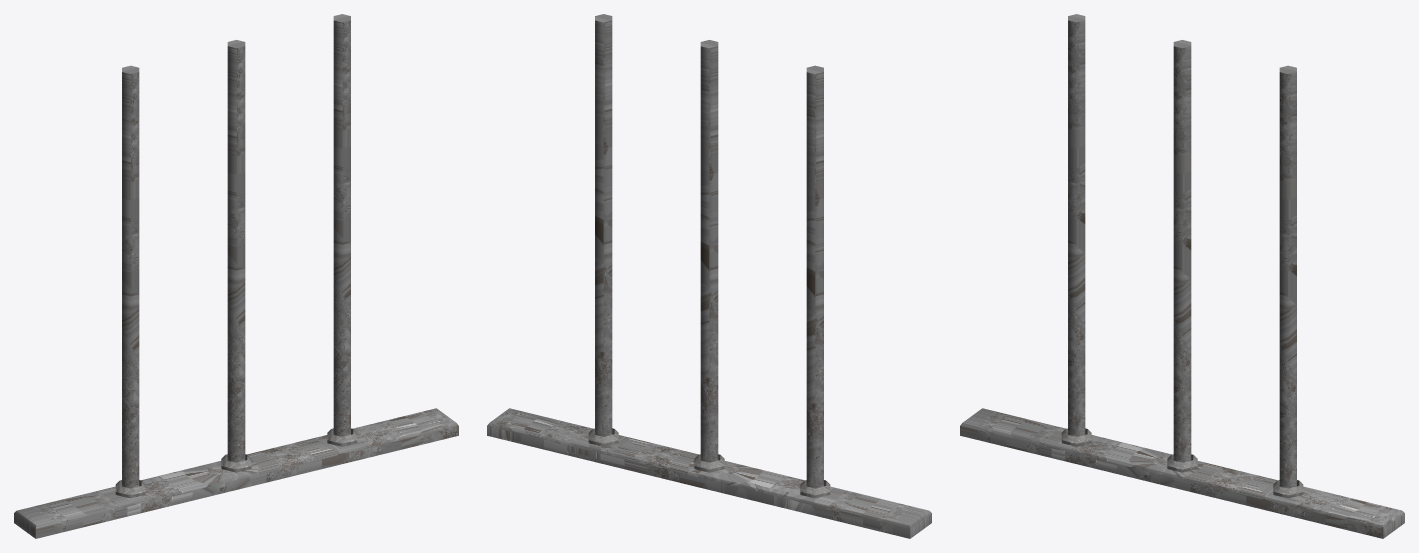
File: Barrotes.fbx
3 renders of one model, left to right at view 1: azimuth 30°, elevation 25°; view 2: azimuth 150°, elevation 25°; view 3: azimuth 330°, elevation 25°, orthographic.
Parts seen in each view (by area): view 1: Box001, Cylinder001, Cylinder011, Cylinder009; view 2: Box001, Cylinder001, Cylinder011, Cylinder009; view 3: Box001, Cylinder001, Cylinder009, Cylinder011.
Boxes of the visible parts, x1,y1,x2,y2 form: Box001: [14, 408, 458, 538]; Cylinder001: [227, 40, 245, 462]; Cylinder011: [333, 14, 350, 436]; Cylinder009: [122, 65, 139, 488]; Box001: [487, 408, 931, 538]; Cylinder001: [700, 40, 718, 462]; Cylinder011: [595, 14, 612, 436]; Cylinder009: [806, 65, 823, 488]; Box001: [960, 408, 1404, 538]; Cylinder001: [1173, 40, 1191, 462]; Cylinder009: [1068, 14, 1085, 436]; Cylinder011: [1279, 65, 1296, 488].
Size of the model in its own units: 128 by 126 by 11.43.
2 materials, 2 textured.
